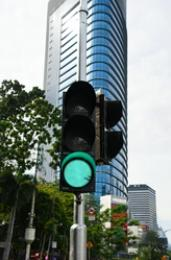green_light: (59, 81, 96, 193)
